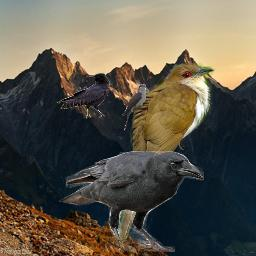Crow: (59, 151, 204, 252), (56, 73, 110, 119)
Cuckoo: (115, 63, 215, 248), (122, 84, 146, 131)
